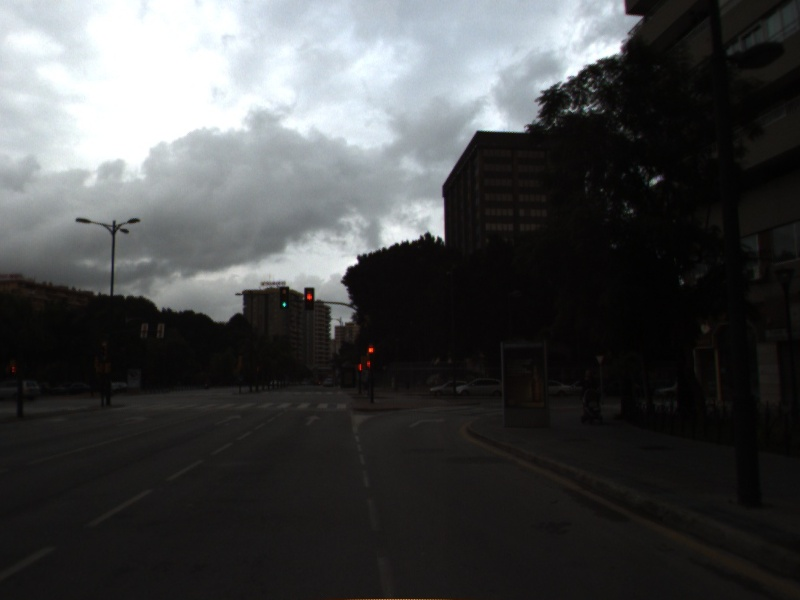RIGHT: (406, 414, 448, 430)
STRAIGHT: (211, 412, 243, 428), (301, 413, 323, 428)
